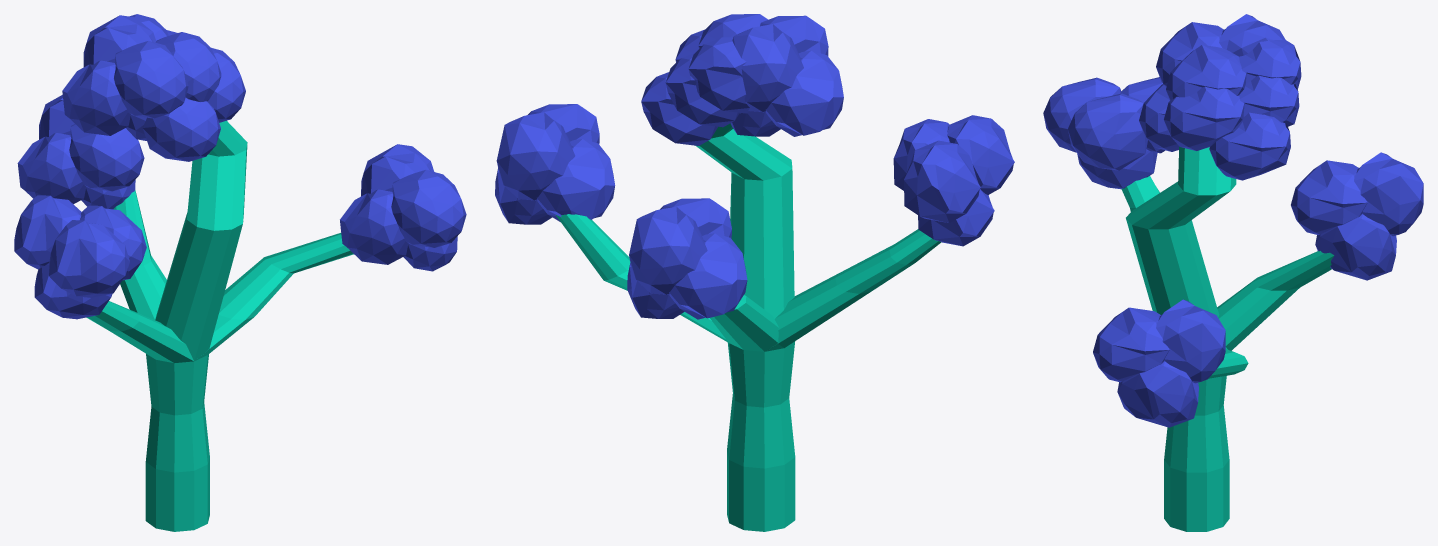
Rendered from Tree Medium.fbx.
The picture shows the model from 3 angles, left to right: view 1: azimuth 30°, elevation 25°; view 2: azimuth 150°, elevation 25°; view 3: azimuth 270°, elevation 25°; orthographic projection. The views are drawn at different scales.
Parts seen in each view (by area): view 1: Cylinder, Icosphere.003, Icosphere.011, Icosphere.015, Icosphere.007, Icosphere.009, Icosphere.013, Icosphere.021, Icosphere.005, Icosphere.002, Icosphere.017, Icosphere.010 (+7 smaller); view 2: Cylinder, Icosphere.010, Icosphere.006, Icosphere.002, Icosphere.005, Icosphere.013, Icosphere.014, Icosphere.009, Icosphere.019, Icosphere.003, Icosphere.022, Icosphere.020 (+9 smaller); view 3: Cylinder, Icosphere.004, Icosphere.010, Icosphere.006, Icosphere.011, Icosphere.007, Icosphere.022, Icosphere.012, Icosphere.018, Icosphere.008, Icosphere.017, Icosphere.003 (+7 smaller).
Boxes of the visible parts, box(x1,y1,x2,y2) form: Cylinder: box(86, 120, 353, 531); Icosphere.003: box(49, 220, 129, 297); Icosphere.011: box(391, 170, 466, 247); Icosphere.015: box(114, 41, 188, 118); Icosphere.007: box(69, 124, 144, 191); Icosphere.009: box(340, 189, 408, 264); Icosphere.013: box(62, 60, 130, 135); Icosphere.021: box(143, 97, 220, 161); Icosphere.005: box(17, 133, 86, 203); Icosphere.002: box(14, 195, 81, 269); Icosphere.017: box(155, 32, 221, 101); Icosphere.010: box(361, 144, 434, 196); Cylinder: box(556, 123, 941, 531); Icosphere.010: box(496, 112, 575, 200); Icosphere.006: box(629, 206, 707, 294); Icosphere.002: box(904, 140, 980, 223); Icosphere.005: box(669, 233, 747, 319); Icosphere.013: box(765, 50, 843, 136); Icosphere.014: box(732, 24, 803, 112); Icosphere.009: box(537, 139, 615, 221); Icosphere.019: box(688, 37, 749, 113); Icosphere.003: box(947, 115, 1014, 194); Icosphere.022: box(641, 72, 717, 145); Icosphere.020: box(665, 52, 739, 127); Cylinder: box(1121, 146, 1334, 531); Icosphere.004: box(1068, 93, 1147, 170); Icosphere.010: box(1156, 299, 1225, 383); Icosphere.006: box(1354, 152, 1423, 236); Icosphere.011: box(1093, 307, 1169, 382); Icosphere.007: box(1291, 160, 1367, 234); Icosphere.022: box(1209, 112, 1290, 180); Icosphere.012: box(1117, 361, 1198, 427); Icosphere.018: box(1164, 86, 1244, 150); Icosphere.008: box(1315, 214, 1396, 280); Icosphere.017: box(1166, 45, 1246, 100); Icosphere.003: box(1043, 77, 1121, 152).
Size of the model in its own units: 1559 by 1627 by 1162.
